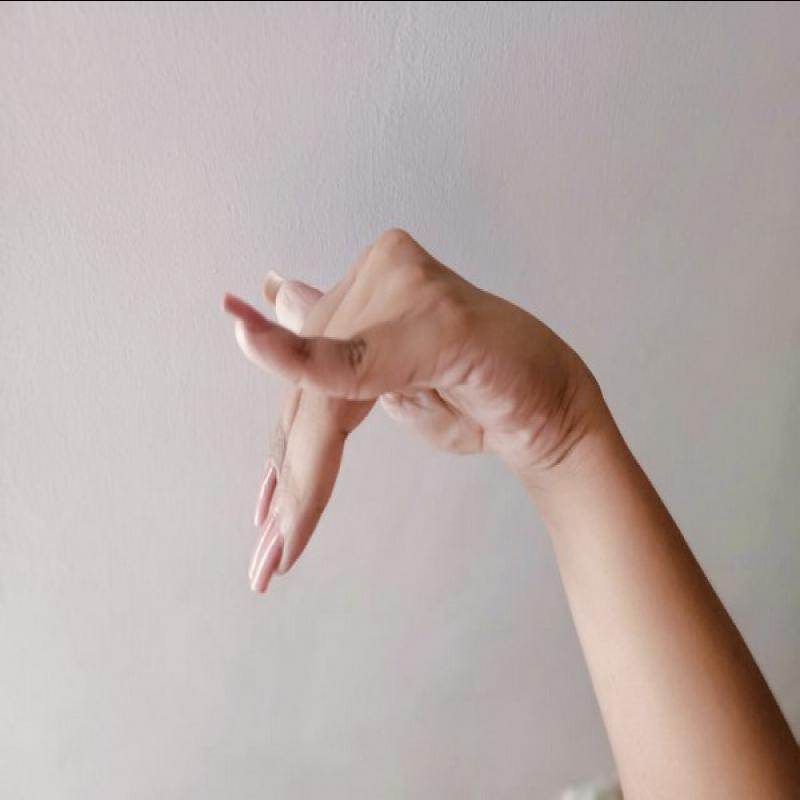Kartharee Mukham: (207, 219, 602, 604)
